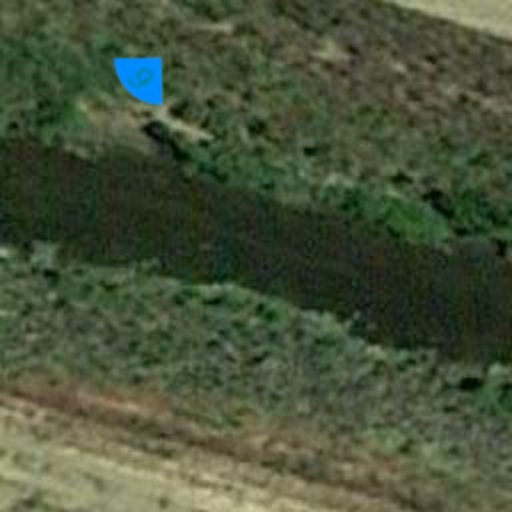quarter_circle: (96, 32, 188, 124)
